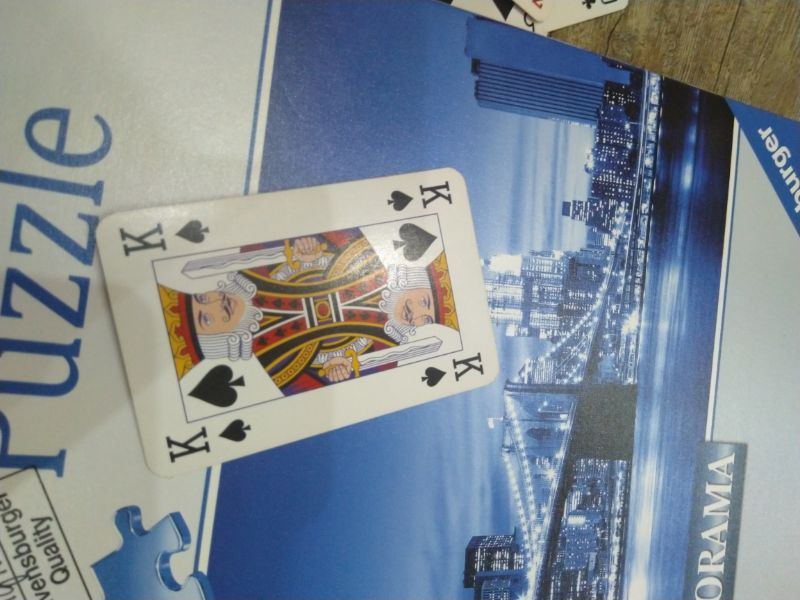Ks: (111, 213, 215, 258), (162, 416, 253, 464), (420, 350, 488, 389), (386, 179, 459, 214)
